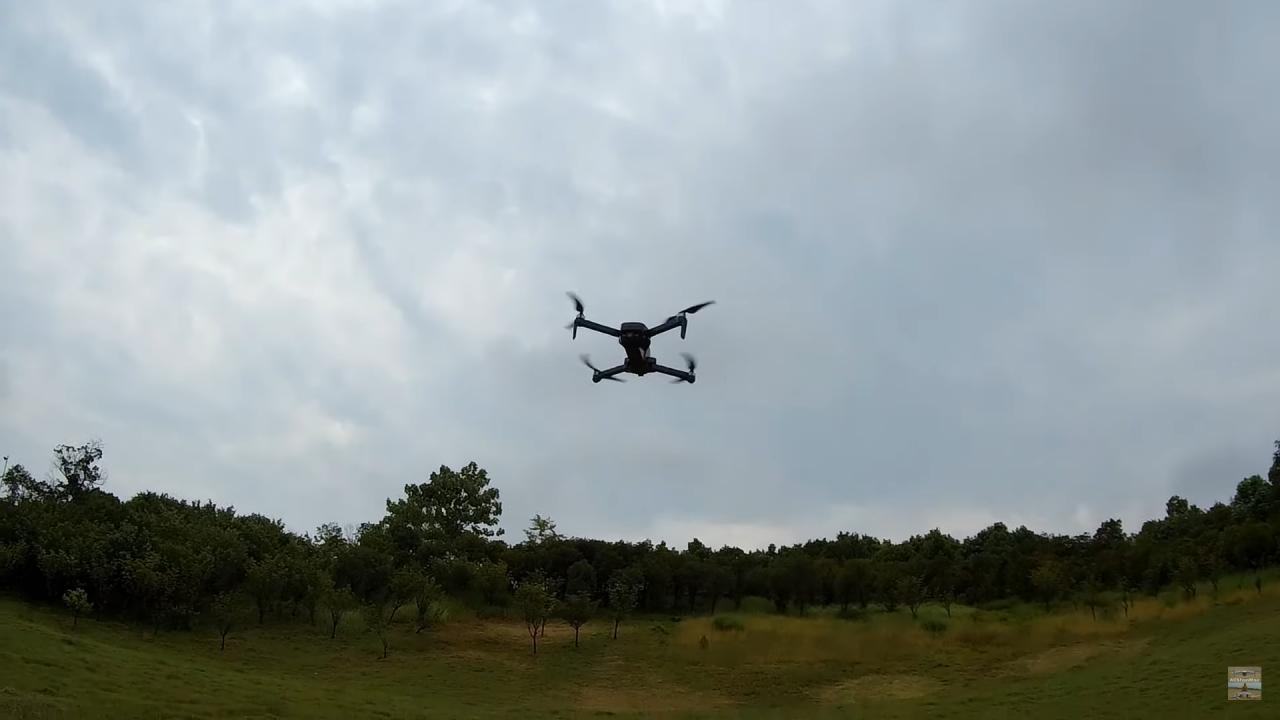Drone: (544, 278, 730, 406)
